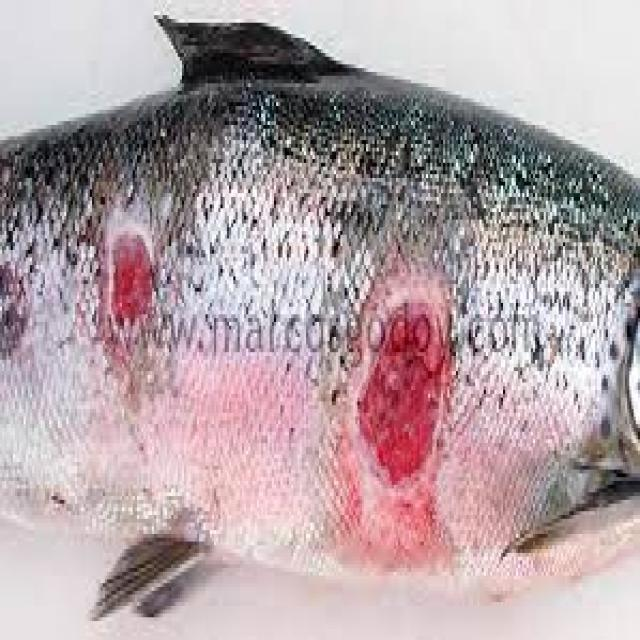EUS Disease: (0, 20, 635, 633), (322, 250, 497, 585), (178, 290, 320, 507), (69, 174, 184, 415)
